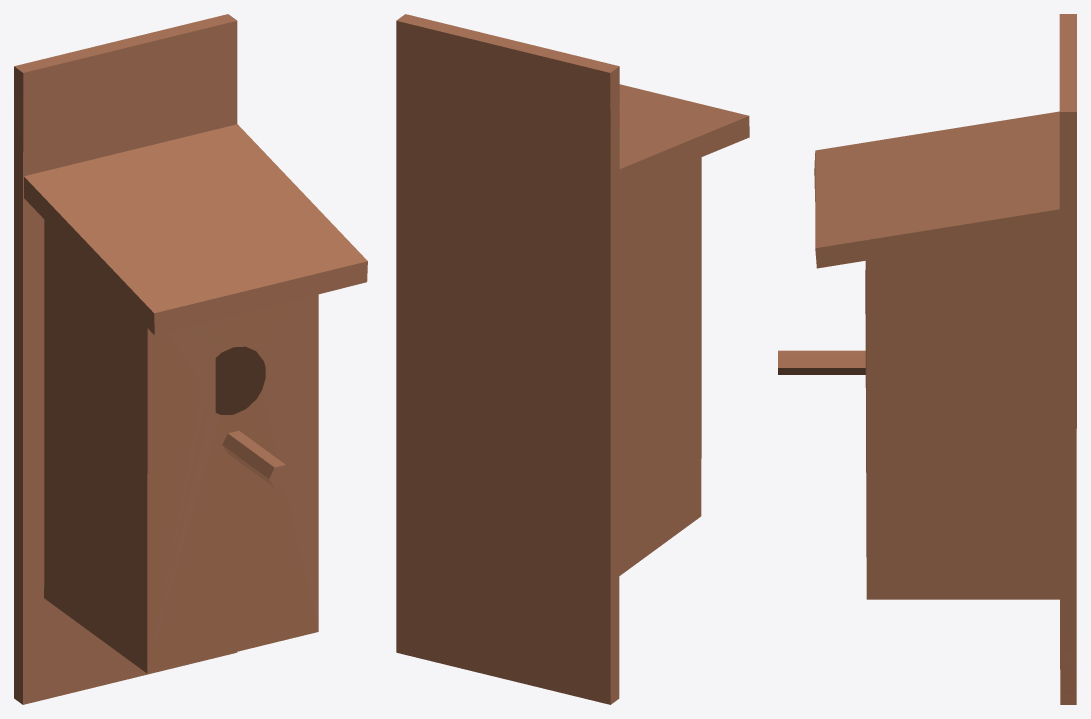
File: Wooden Bird House.fbx
The picture shows the model from 3 angles, left to right: view 1: azimuth 30°, elevation 25°; view 2: azimuth 150°, elevation 25°; view 3: azimuth 270°, elevation 25°; orthographic projection. The views are drawn at different scales.
Visible parts, largest first — view 1: Wooden Bird House; view 2: Wooden Bird House; view 3: Wooden Bird House.
Part boxes in pixels (x1,y1,x2,y2): Wooden Bird House: (14, 14, 367, 704); Wooden Bird House: (396, 14, 749, 704); Wooden Bird House: (778, 14, 1076, 704).
Size of the model in its own units: 31.15 by 87.73 by 40.09.
